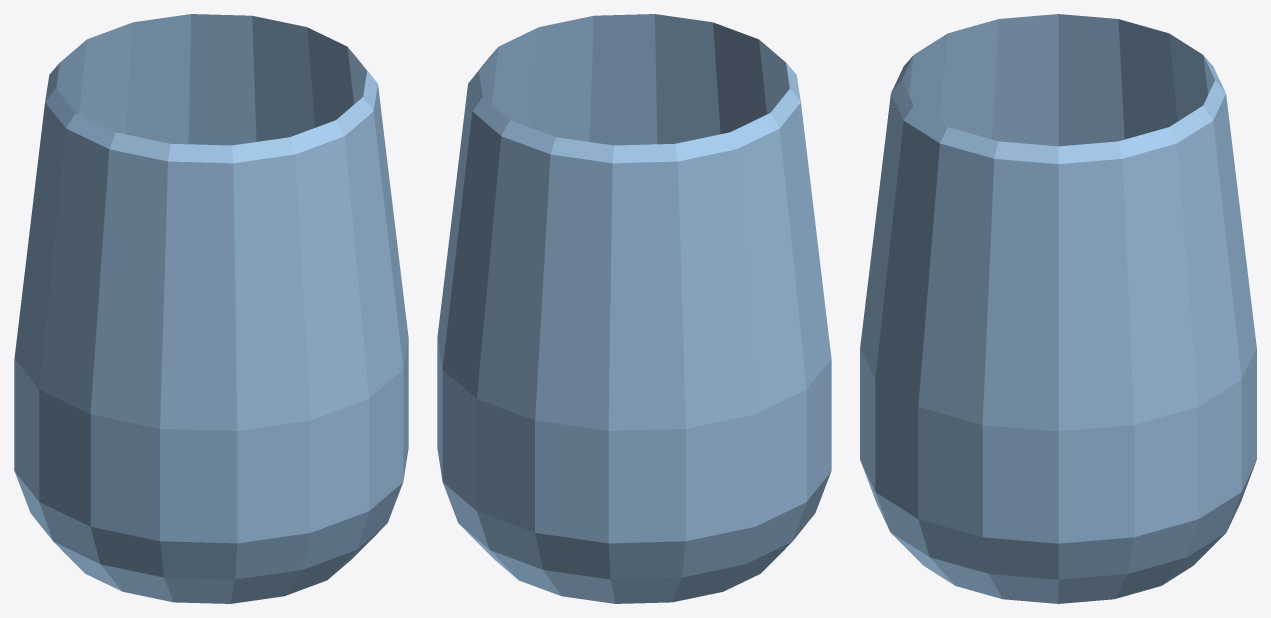
The picture shows the model from 3 angles, left to right: view 1: azimuth 30°, elevation 25°; view 2: azimuth 150°, elevation 25°; view 3: azimuth 270°, elevation 25°; orthographic projection.
Parts seen in each view (by area): view 1: outer; view 2: outer; view 3: outer.
Part boxes in pixels (bbox=[...]): outer: bbox=[14, 14, 408, 603]; outer: bbox=[437, 14, 831, 603]; outer: bbox=[860, 14, 1256, 603].
Size of the model in its own units: 0.1089 by 0.14 by 0.1089.
